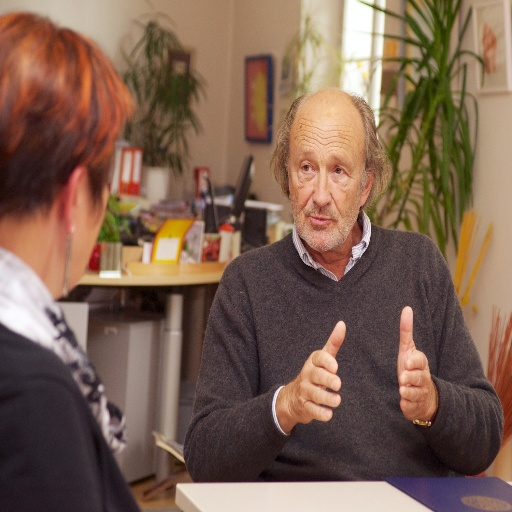hand: (288, 343, 361, 431), (395, 303, 436, 422)
